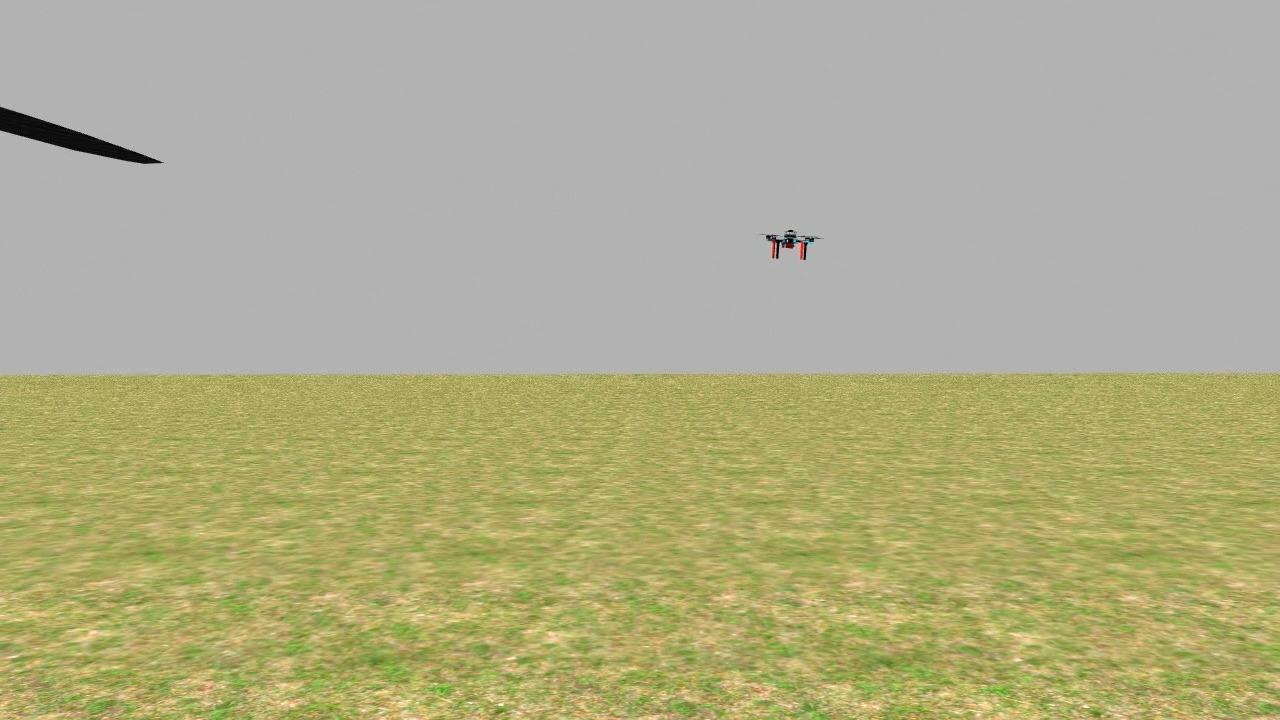UAV: (747, 220, 830, 271)
